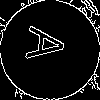A: (25, 25, 75, 66)
